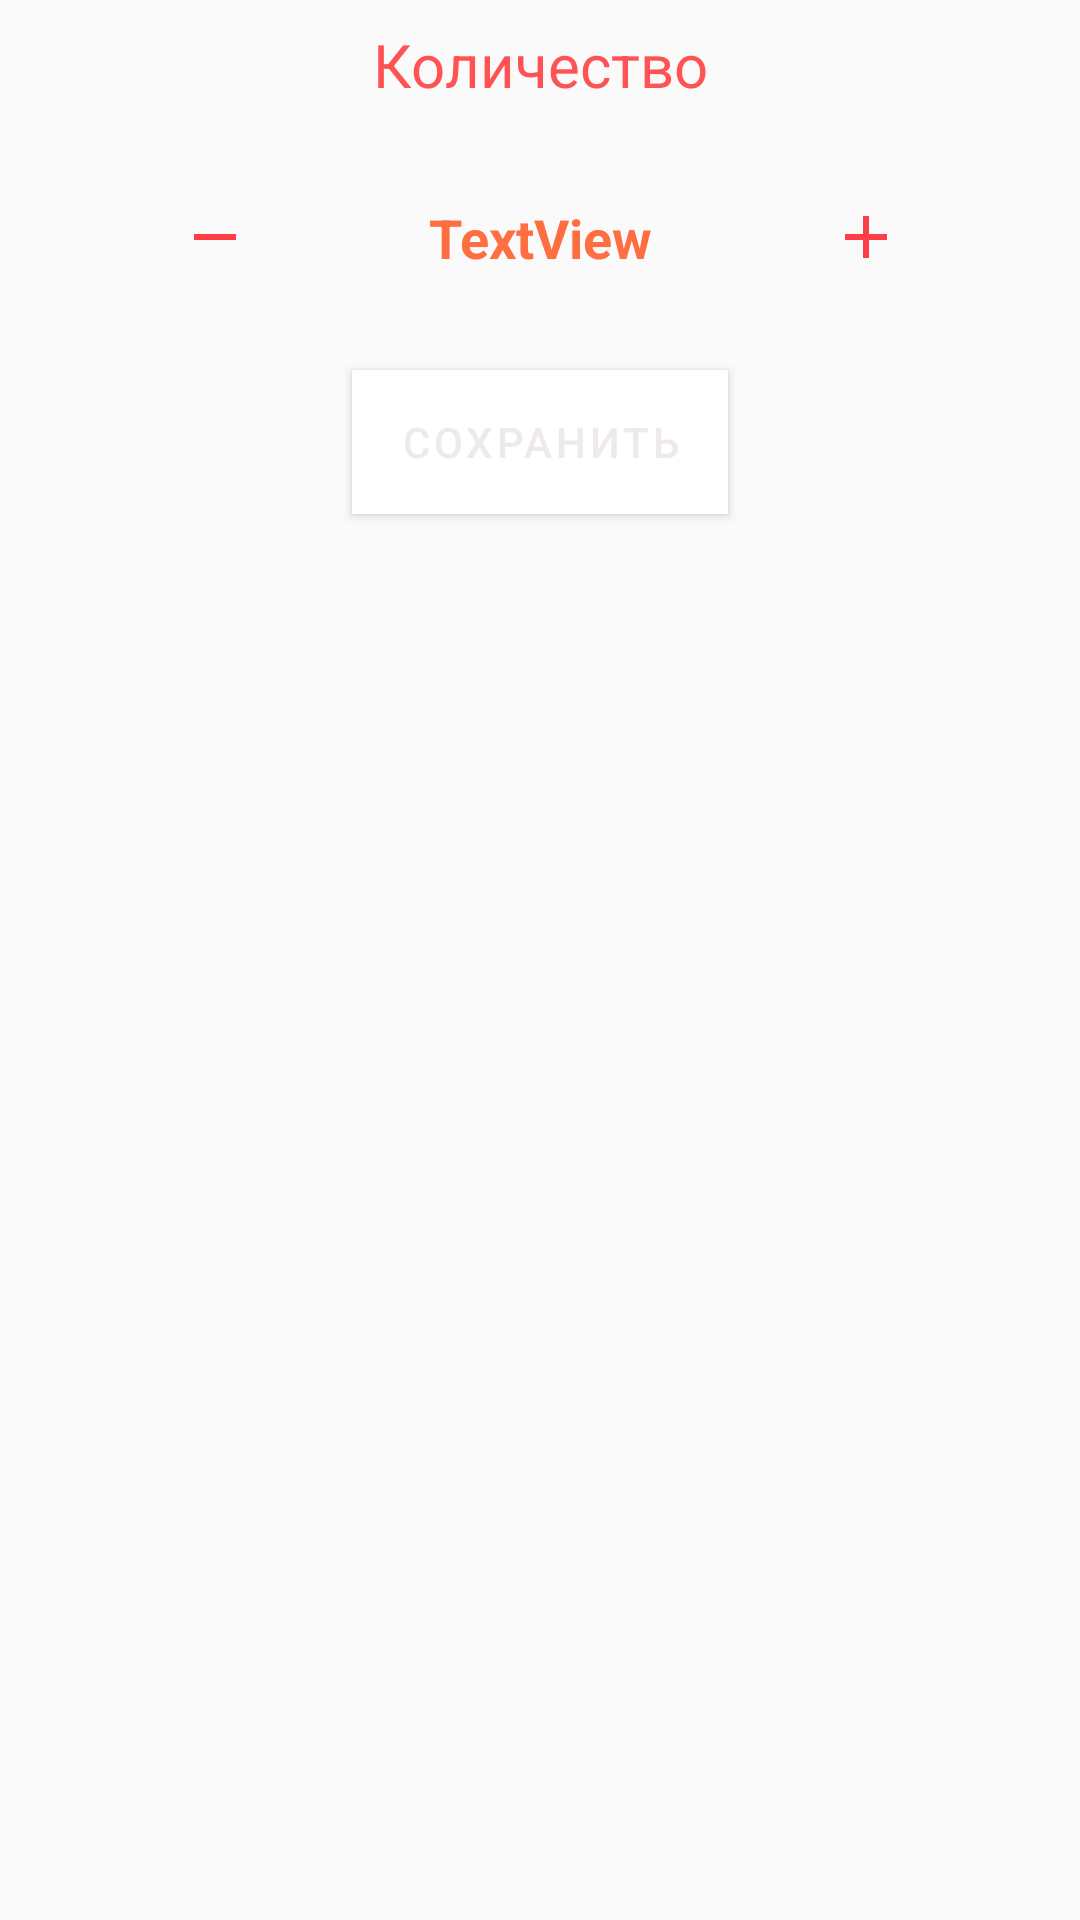

Where icons sit on this 1080*1920 app screen, as (x1, y1, x2, y2):
plus: (845, 216, 887, 258)
